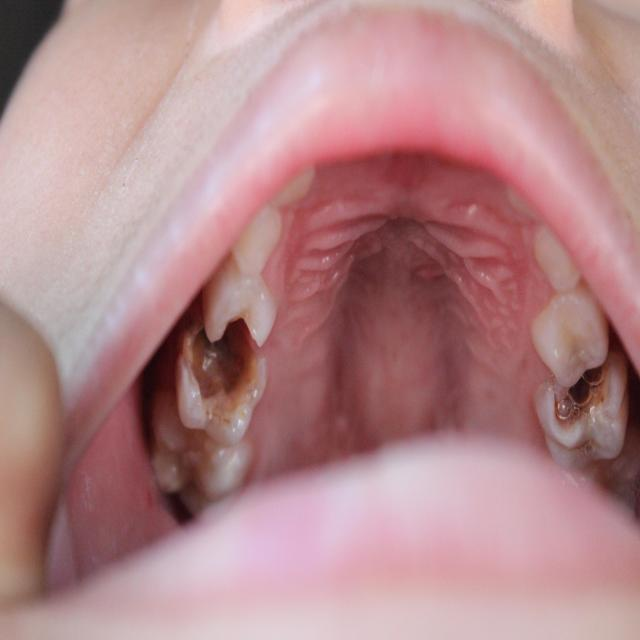caries: (179, 320, 265, 444), (538, 358, 625, 478), (208, 268, 274, 338)
